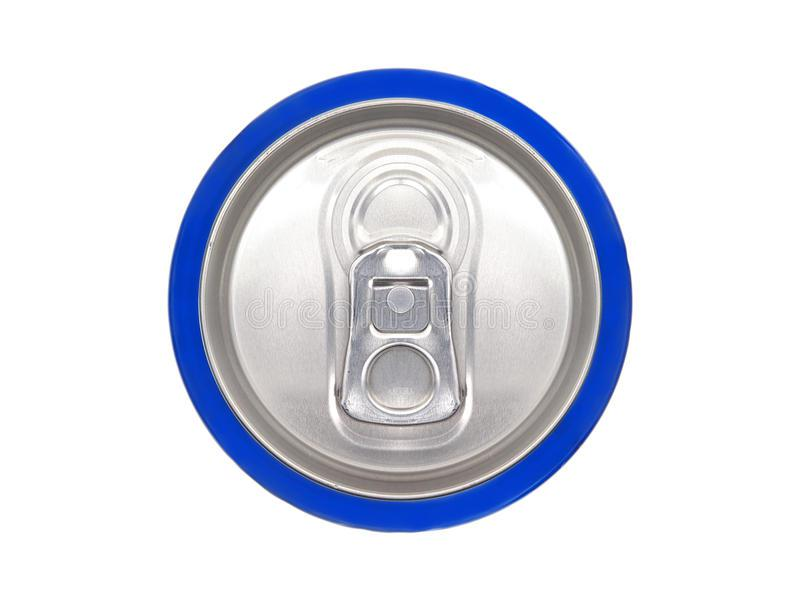can: (165, 65, 637, 533)
